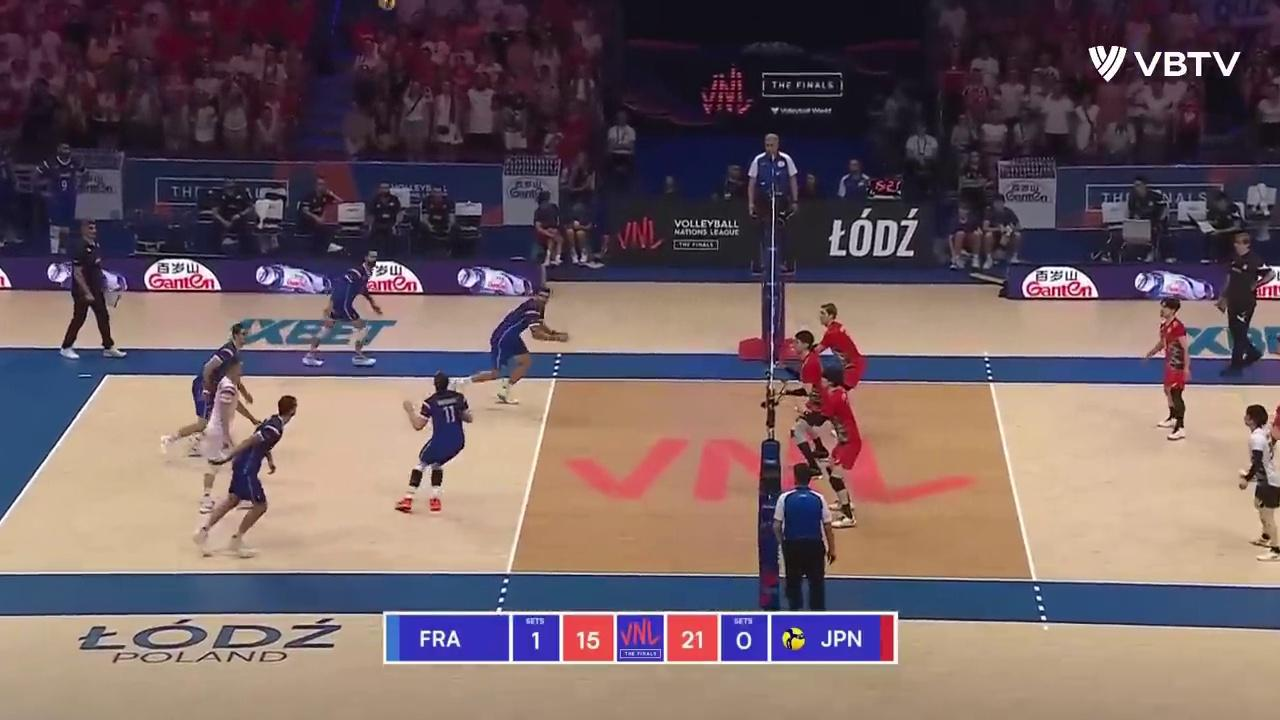ball: (377, 0, 396, 12)
